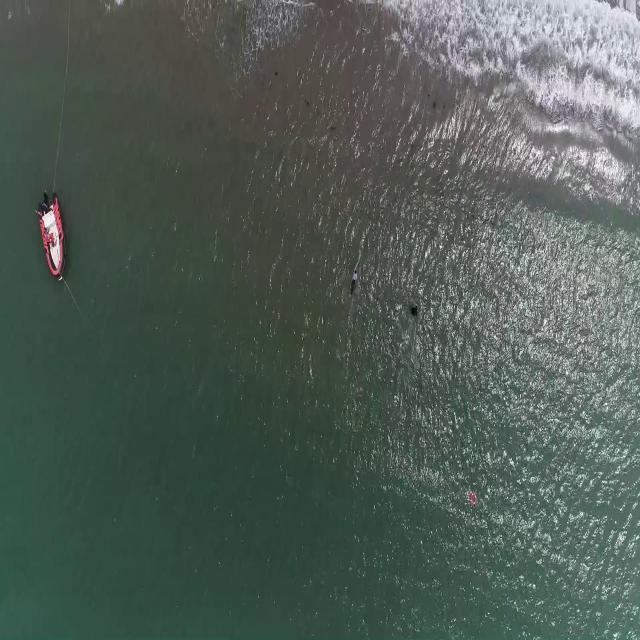boat: (36, 192, 66, 280)
life_buoy: (469, 491, 478, 506)
person: (349, 262, 362, 298), (410, 299, 420, 319)
